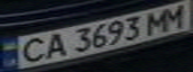3: (121, 13, 148, 42), (69, 25, 93, 54)
6: (90, 20, 112, 50)
9: (106, 18, 127, 46)
A: (39, 30, 69, 60)
C: (12, 35, 51, 65)
M: (139, 7, 175, 35), (157, 2, 190, 30)
